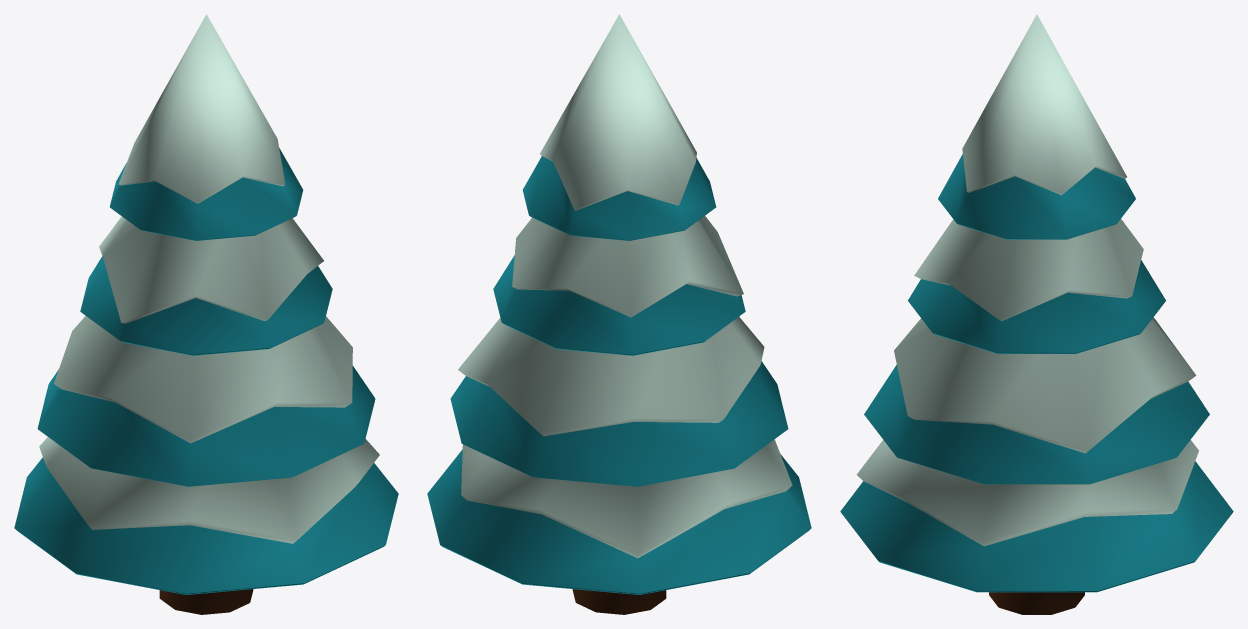
The model's file is winter-ice-tree-pine-tall.glb.
3 renders of one model, left to right at view 1: azimuth 30°, elevation 25°; view 2: azimuth 150°, elevation 25°; view 3: azimuth 270°, elevation 25°, orthographic.
Parts seen in each view (by area): view 1: WinterIceTreePineTall; view 2: WinterIceTreePineTall; view 3: WinterIceTreePineTall.
Boxes of the visible parts, x1=… form: WinterIceTreePineTall: x1=14, y1=14, x2=398, y2=614; WinterIceTreePineTall: x1=427, y1=14, x2=811, y2=614; WinterIceTreePineTall: x1=840, y1=14, x2=1233, y2=614.
Size of the model in its own units: 177 by 303 by 186.
1 material, 1 textured.
